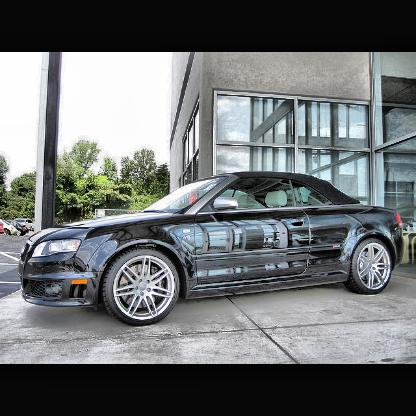Audi RS 4 Convertible 2008: (2, 54, 416, 365)
